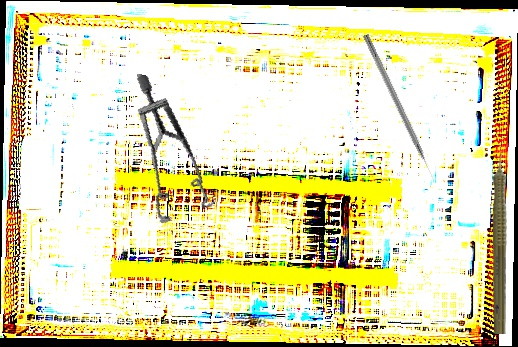Handpiece: (490, 143, 514, 334)
Hook Surgical: (361, 33, 438, 183)
Speculum: (101, 73, 243, 235)
